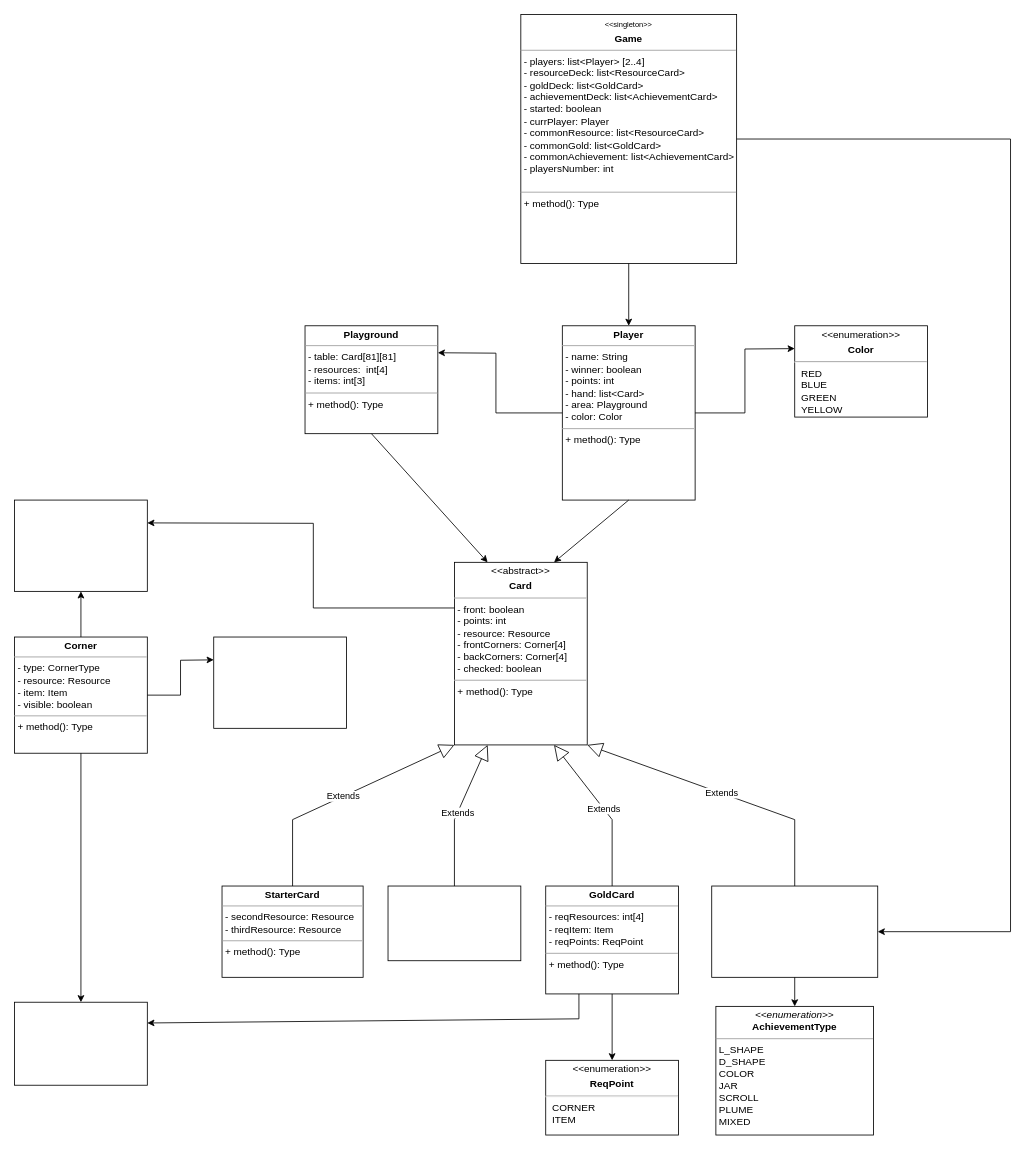
The diagram is 1032 pixels wide and 1150 high, and some of its shapes have lost their labels. Here are the shapes that lost their labels. From the top down, the box of each, then its label:
(14, 499, 147, 591): <<enumeration>> Resource WOLF BUTTERFLY LEAF MUSHROOM
(213, 636, 347, 728): <<enumeration>> CornerType RESOURCE ITEM FREE DEAD
(387, 885, 521, 961): ResourceCard + method(): Type
(711, 885, 878, 977): AchievementCard - Achievement: AchievementType + method(): Type
(14, 1001, 147, 1085): <<enumeration>> Item JAR SCROLL PLUME
